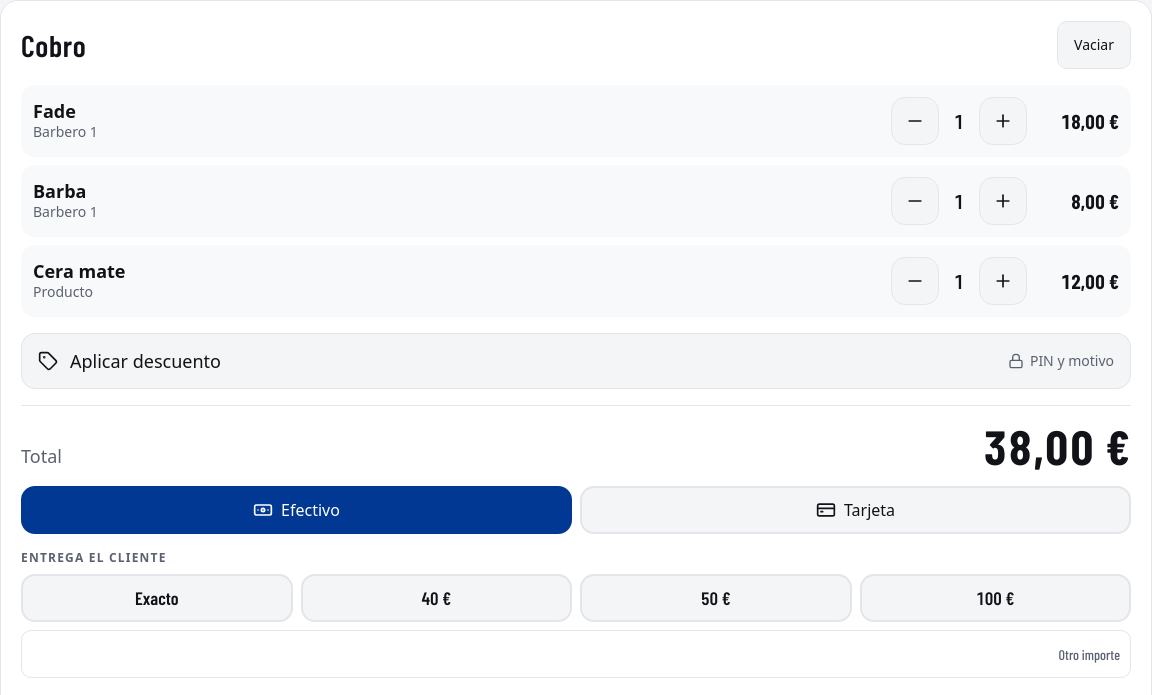
Test: CartPanel › − y + cambian cantidades (a 0 la línea desaparece) y Vaciar deja el carrito vacío
The image size is (1152, 695).
Step 1. Click the button named "Una unidad más de Fade" → (1003, 121), box [979,97,1027,145]
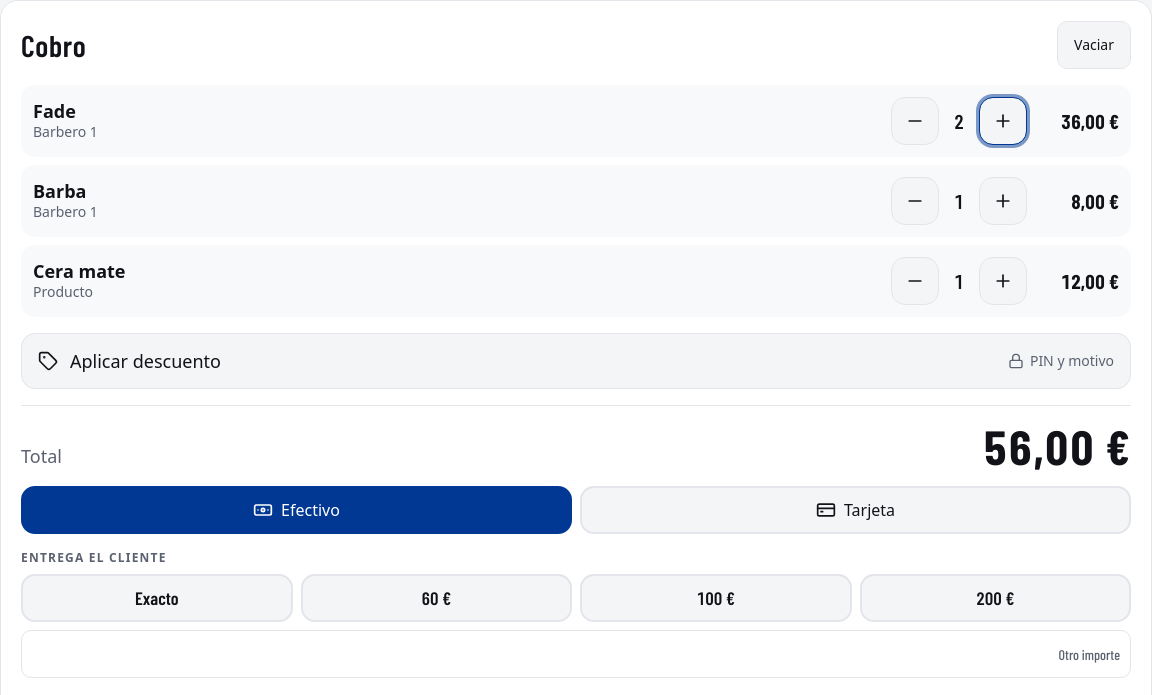
Now the text with test id "cart-line-quantity" reads "2", box [954,109,964,133]
Now the text with test id "cart-line-total" reads "36,00 €", box [1061,109,1119,133]
Now the text with test id "cart-total" reads "56,00 €", box [983,417,1131,475]
Step 2. Click the button named "Una unidad menos de Barba" → (915, 201), box [891,177,939,225]
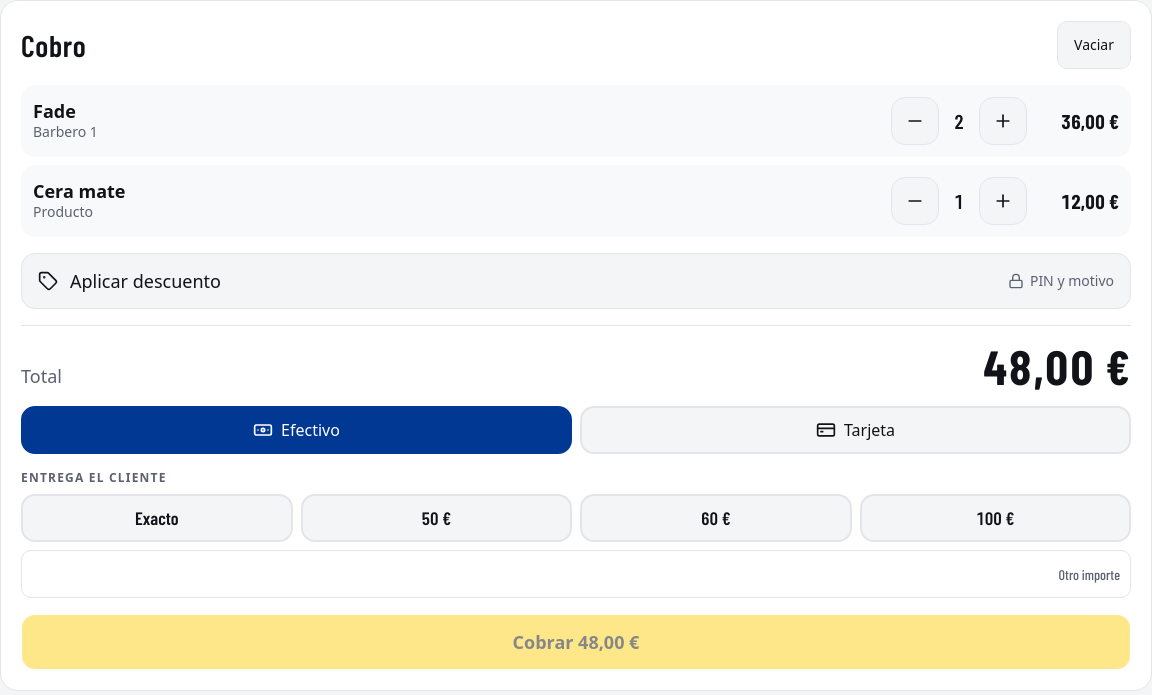
Step 3. Click the button "Vaciar" → (1094, 45), box [1057,21,1131,69]
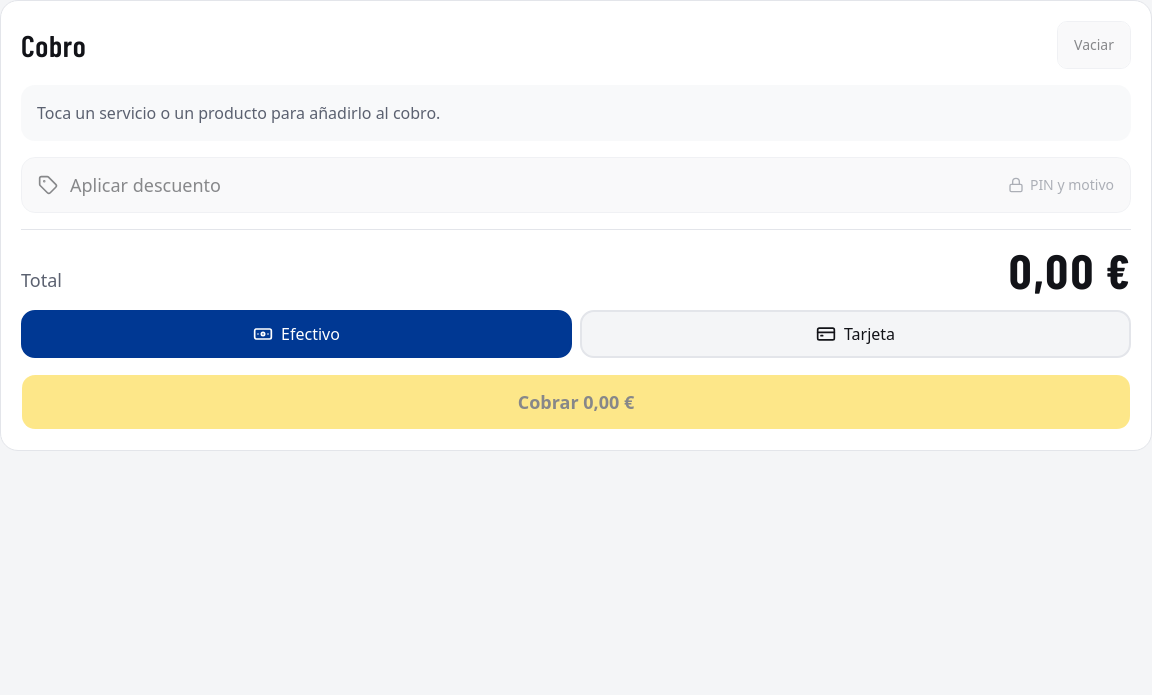
Now the text "Toca un servicio o un producto para añadirlo al cobro." is shown, box [21,85,1131,141]
Now the text with test id "cart-total" reads "0,00 €", box [1008,241,1131,299]
Now the button "Vaciar" is disabled, box [1057,21,1131,69]
